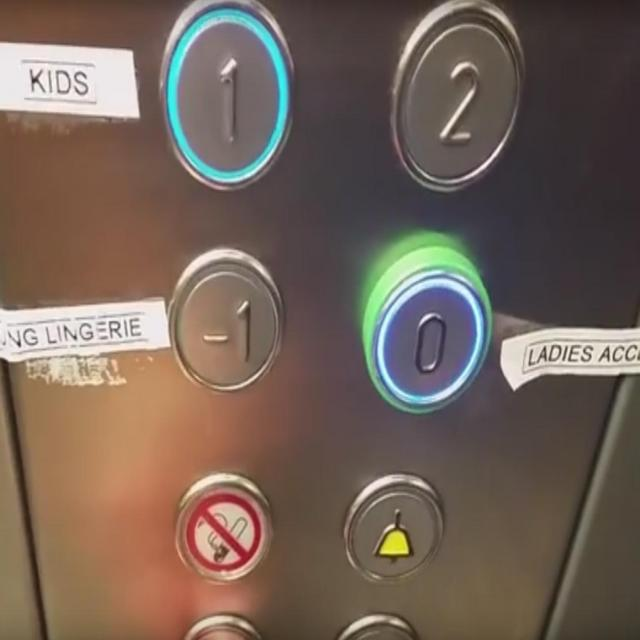-1: (166, 244, 284, 397)
0: (357, 227, 495, 416)
1: (155, 0, 295, 192)
2: (387, 0, 527, 192)
alarm: (340, 467, 446, 581)
unknown: (174, 470, 276, 586)
